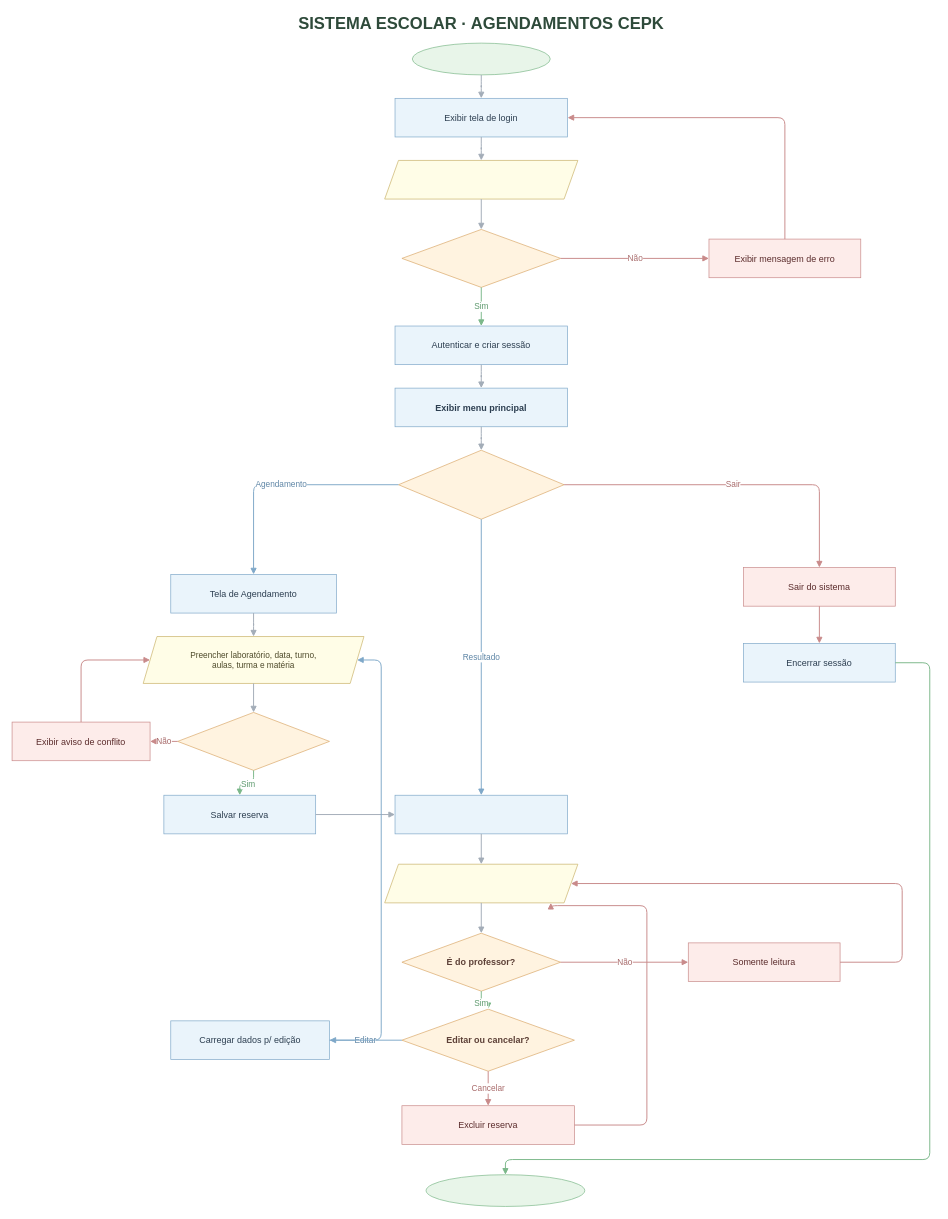
The diagram is 948 pixels wide and 1219 high, and some of its shapes have lost their labels. The shapes that lost their labels are listed below. From the top down, each one's centre as x and y in pixels, then its label:
(481,58): Início
(481,179): Informar nome, e-mail e CPF
(481,258): Dados válidos?
(481,484): Escolha no menu
(253,741): Horário livre?
(481,814): Tela de Resultado
(481,883): Listar reservas
(505,1190): Fim
